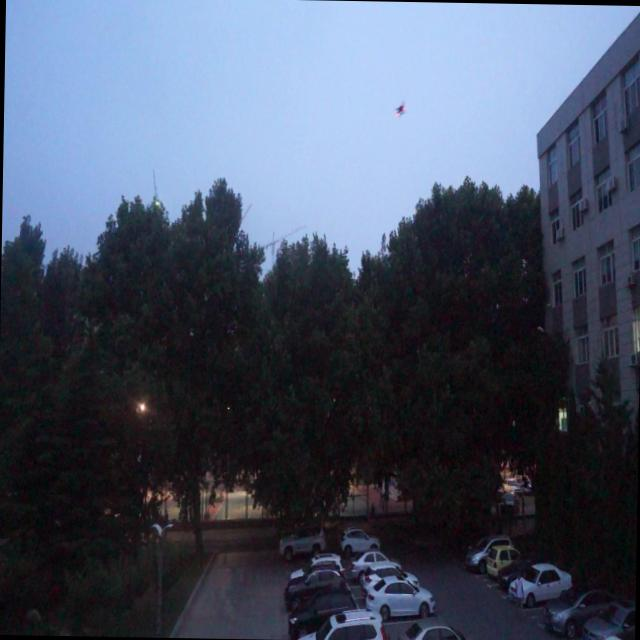drone: (394, 101, 406, 119)
